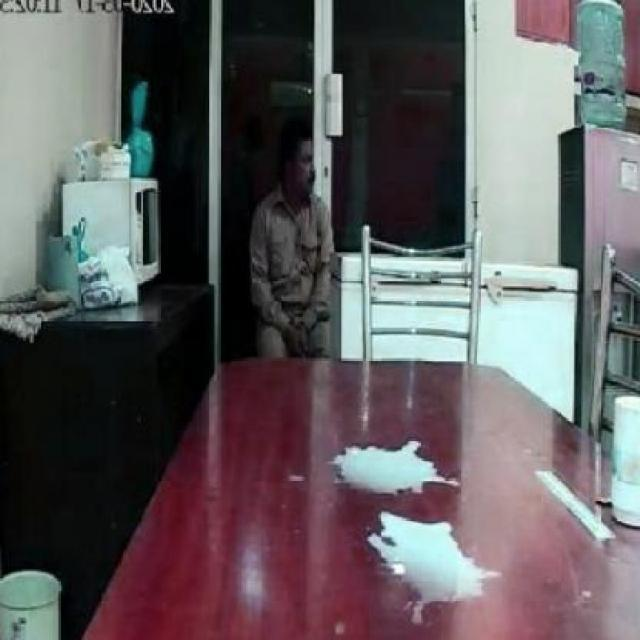spillage: (364, 510, 490, 607), (329, 439, 447, 495)
